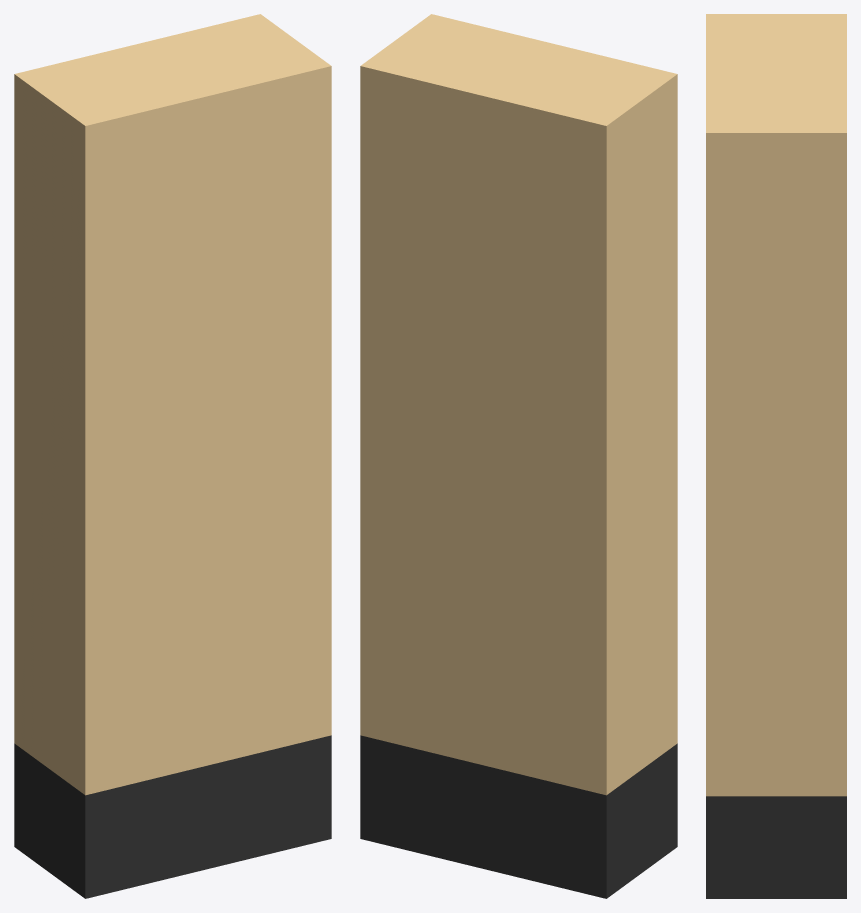
Rendered from wall.fbx.
3 renders of one model, left to right at view 1: azimuth 30°, elevation 25°; view 2: azimuth 150°, elevation 25°; view 3: azimuth 270°, elevation 25°, orthographic.
Visible parts, largest first — view 1: mesh_WallBrick; view 2: mesh_WallBrick; view 3: mesh_WallBrick.
Boxes of the visible parts, box(x1,y1,x2,y2) form: mesh_WallBrick: box(14, 14, 331, 898); mesh_WallBrick: box(360, 14, 677, 898); mesh_WallBrick: box(706, 14, 846, 898).
Bounding box in the file's own units: 100 × 300 × 50.
